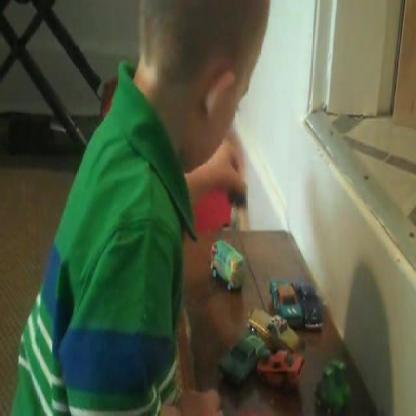other: (244, 300, 309, 384), (186, 178, 253, 233)
